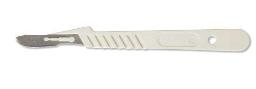scalpel: (16, 26, 250, 52)
